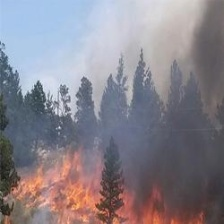fire: (22, 174, 202, 224)
smoke: (136, 4, 224, 158)
